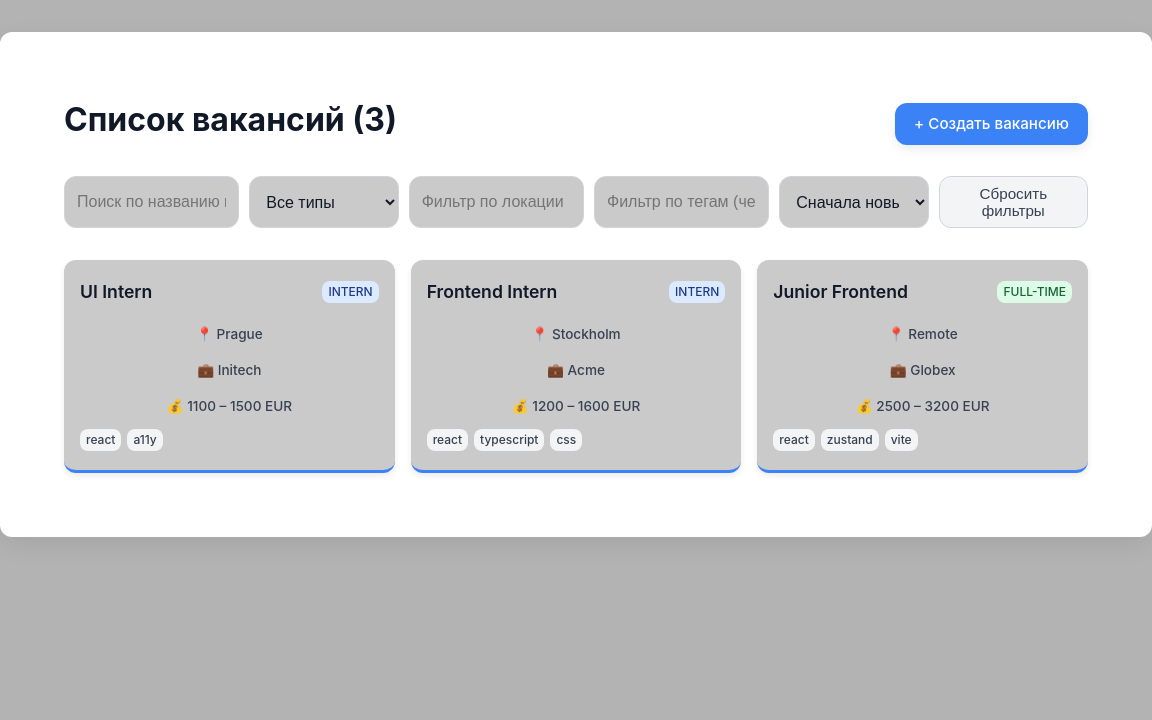
Scenario: JobList › фильтрует вакансии по поиску
Expected: the heading "Frontend Intern" is shown, [427, 279, 557, 306]
Expected: the heading "Junior Frontend" is shown, [773, 279, 908, 306]
Type "Globex" into the field with placeholder "Поиск по названию или компании". click: (152, 202)
box: [64, 176, 239, 228]
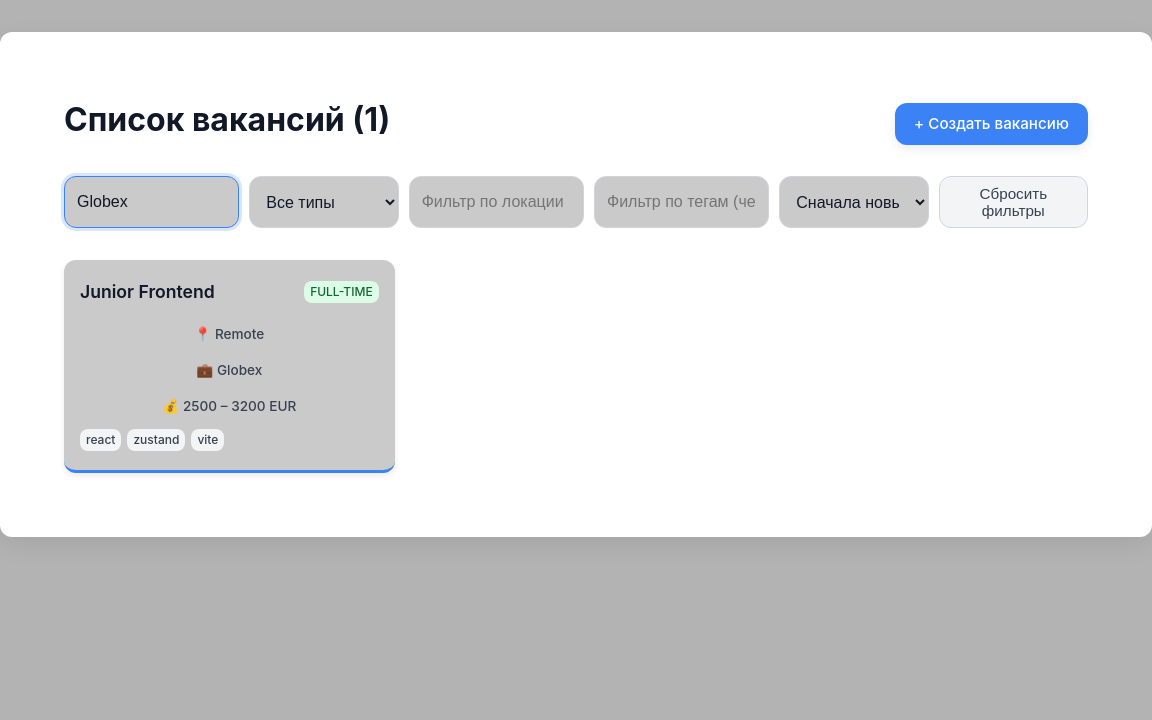
Expected: the heading "Junior Frontend" is shown, [80, 279, 215, 306]
Expected: the link "Frontend Intern" is gone
